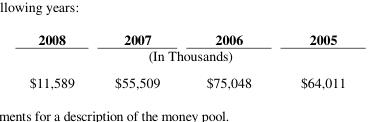table: (28, 28, 345, 91)
table column: (182, 28, 275, 91), (94, 28, 182, 91), (275, 28, 345, 91), (28, 28, 94, 91)
table column header: (28, 28, 345, 46)
table projected row header: (28, 46, 345, 68)
table row: (28, 68, 345, 91), (28, 46, 345, 68), (28, 28, 345, 46)
